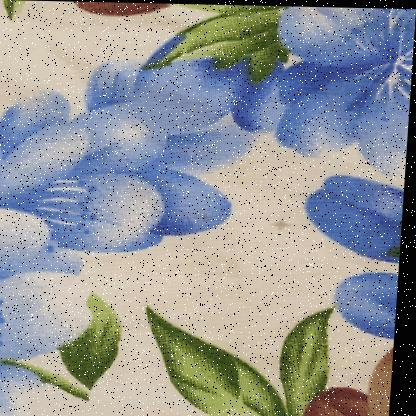spot: (267, 209, 304, 235), (226, 256, 252, 288), (204, 212, 214, 218)
